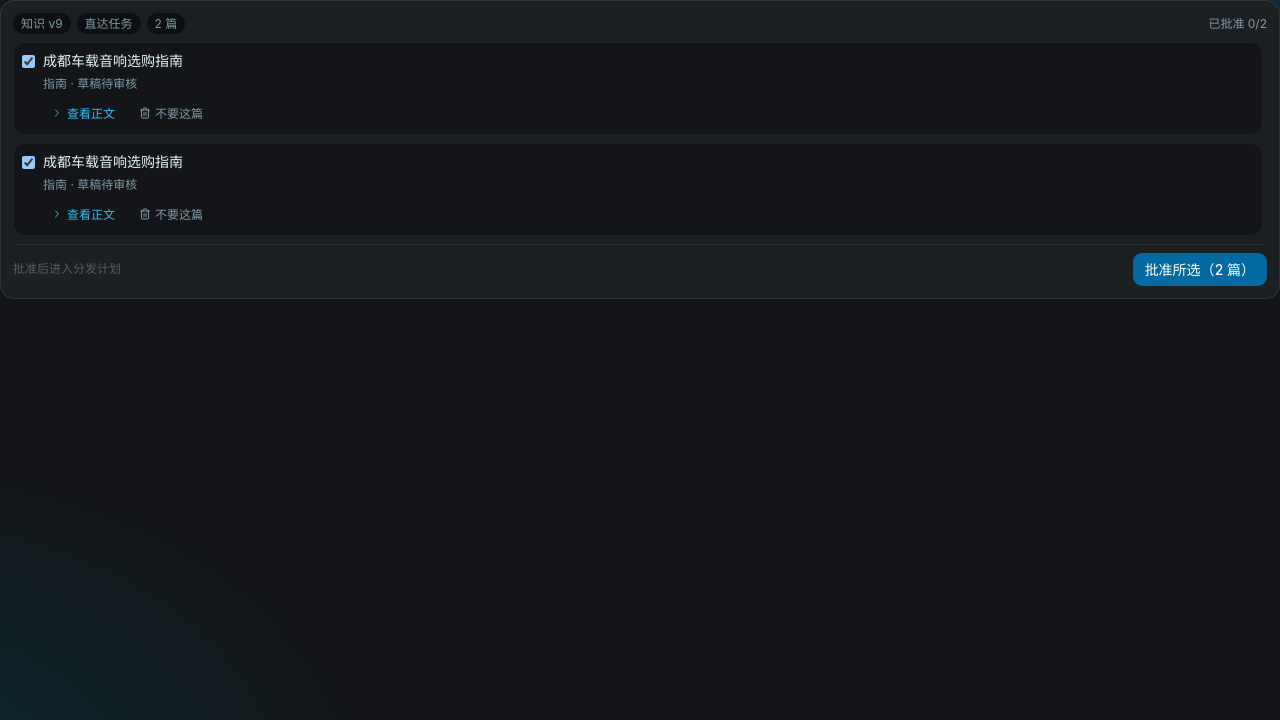
it: ArticleApprovalGateCard › approves only checked pending articles and leaves unchecked ones pending
The image size is (1280, 720).
Expected: the button "批准所选（2 篇）" is shown, [1133, 253, 1267, 286]
Click the 1st checkbox named "选择批准 成都车载音响选购指南".
click(28, 62)  # box [22, 55, 35, 68]
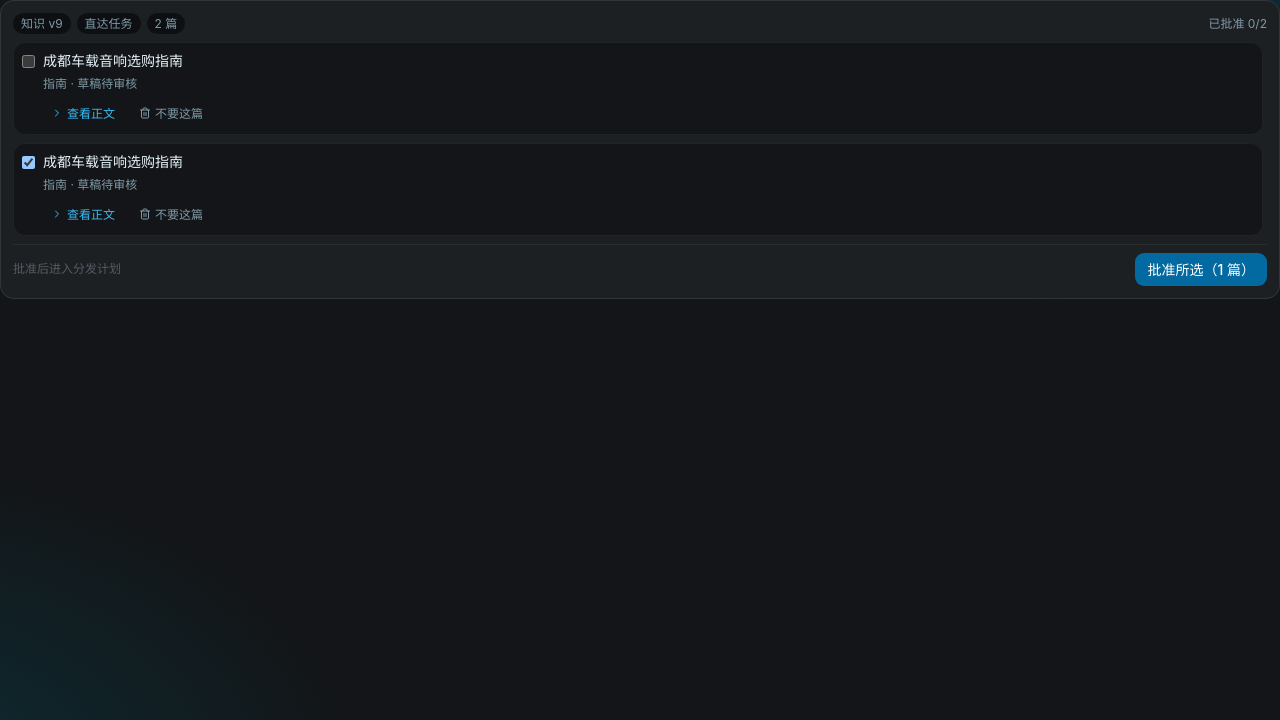
Expected: the 1st checkbox named "选择批准 成都车载音响选购指南" is not checked, [22, 55, 35, 68]
Expected: the button "批准所选（1 篇）" is shown
Click the button "批准所选（1 篇）".
click(1201, 270)  # box [1136, 253, 1267, 286]
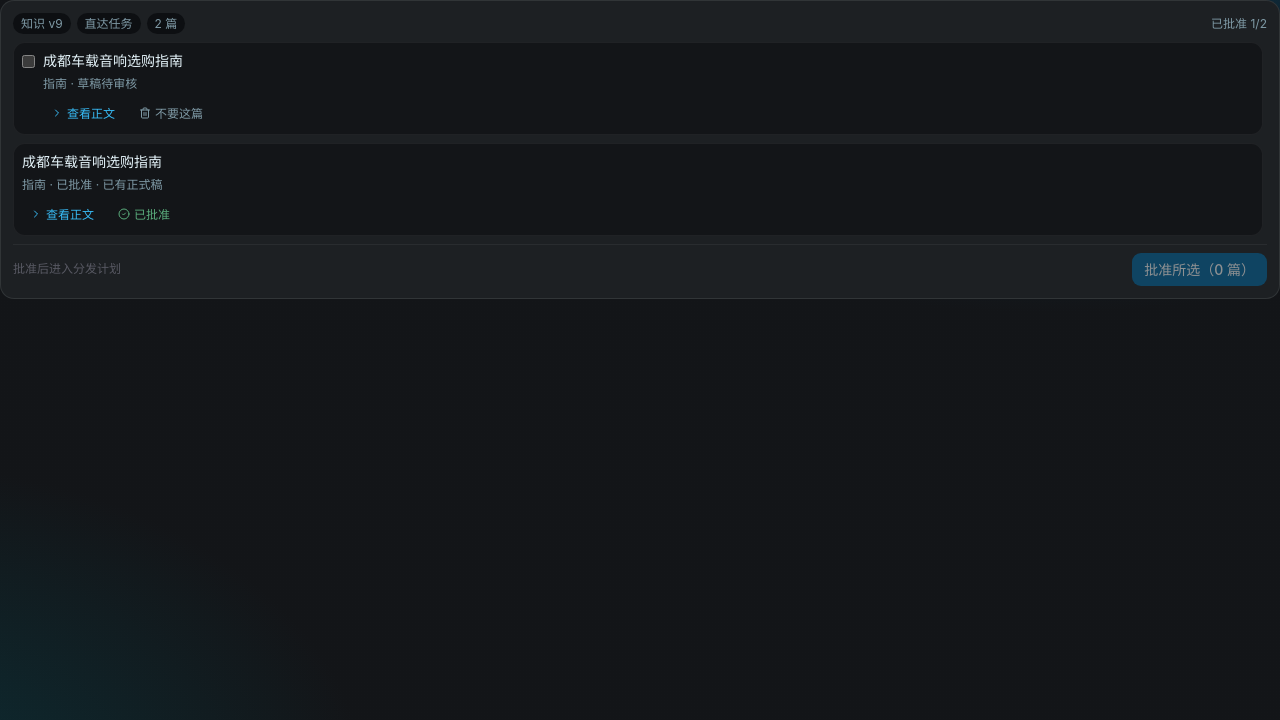
Expected: the button "批准所选（0 篇）" is disabled, [1132, 253, 1267, 286]
